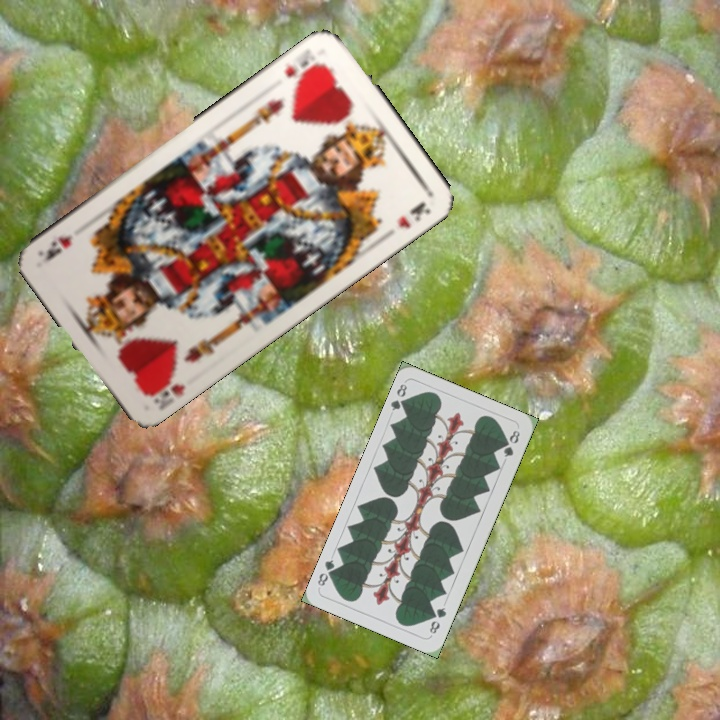G8: (425, 603, 449, 637), (387, 380, 411, 413)
HK: (141, 369, 189, 412), (280, 52, 327, 87)
